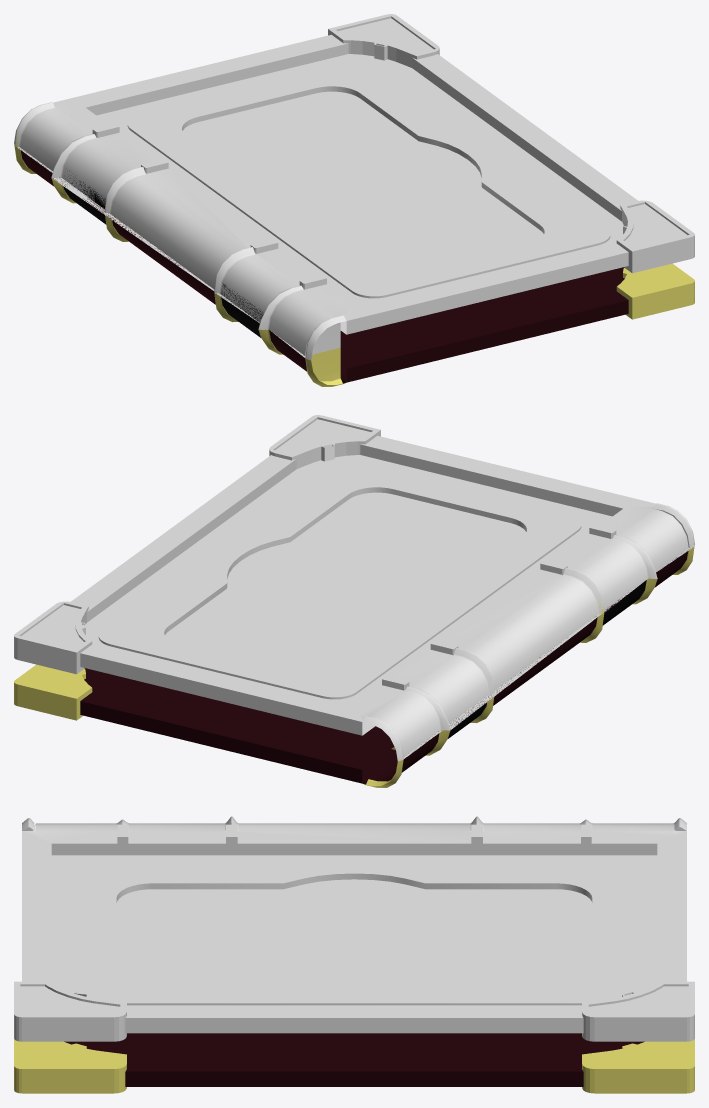
3 renders of one model, top to bottom at view 1: azimuth 30°, elevation 25°; view 2: azimuth 150°, elevation 25°; view 3: azimuth 270°, elevation 25°, orthographic. The views are drawn at different scales.
Parts seen in each view (by area): view 1: 平面, 平面.001; view 2: 平面, 平面.001; view 3: 平面, 平面.001.
Boxes of the visible parts, left/top/right/bottom form: 平面: left=14, top=14, right=694, bottom=360; 平面.001: left=14, top=133, right=694, bottom=386; 平面: left=14, top=415, right=694, bottom=761; 平面.001: left=14, top=547, right=694, bottom=787; 平面: left=14, top=816, right=694, bottom=1041; 平面.001: left=14, top=1033, right=694, bottom=1093.
Size of the model in its own units: 152 by 27.23 by 205.
